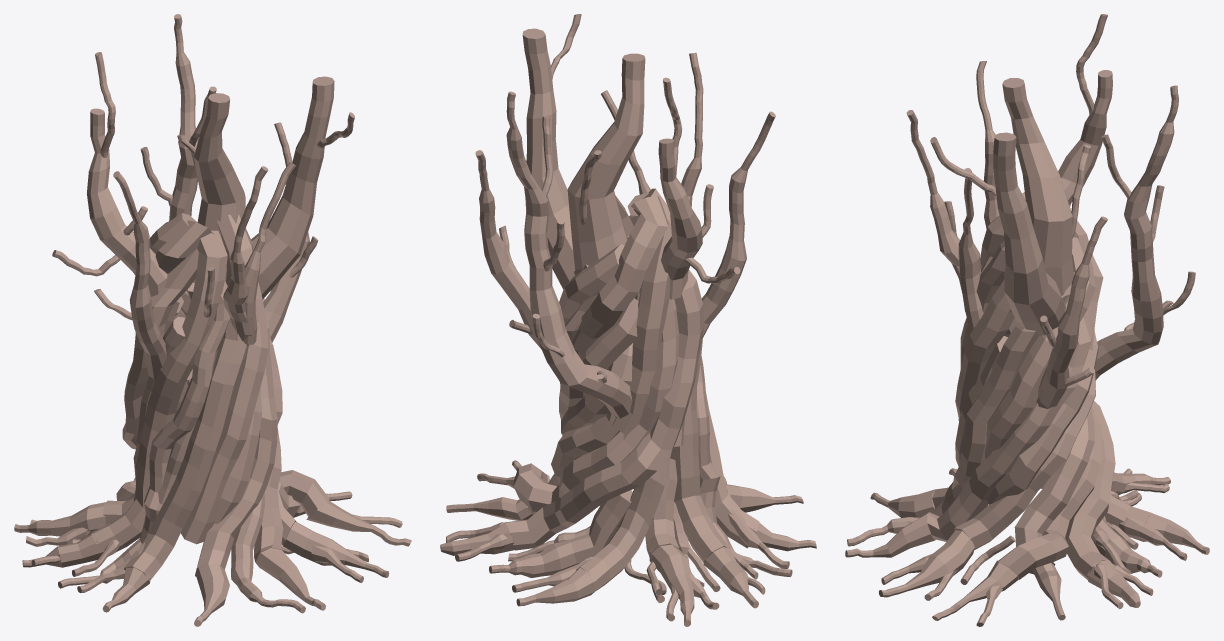
Rendered from bigtree.glb.
3 renders of one model, left to right at view 1: azimuth 30°, elevation 25°; view 2: azimuth 150°, elevation 25°; view 3: azimuth 270°, elevation 25°, orthographic. The views are drawn at different scales.
Parts seen in each view (by area): view 1: group714029534, group1338073359, group489365755, group1880557378, group1532606022, group1153180034, group1716827882, group1494371246, group1823827936, group108648647, group601064043, group1294113587 (+23 smaller); view 2: group108648647, group601064043, group1153180034, group244843052, group489365755, group26012683, group334543148, group1338073359, group1494371246, group2065597467, group1041985594, group1823827936 (+24 smaller); view 3: group489365755, group1153180034, group601064043, group1625258563, group1716827882, group1451681568, group1007075876, group1612250003, group244843052, group108648647, group1590265146, group1554019620 (+26 smaller).
Part boxes in pixels (x1,y1,x2,y2): group714029534: (124, 214, 253, 582); group1338073359: (91, 230, 227, 551); group489365755: (251, 76, 334, 299); group1880557378: (181, 282, 268, 544); group1532606022: (58, 281, 230, 588); group1153180034: (193, 93, 245, 282); group1716827882: (195, 312, 277, 576); group1494371246: (87, 108, 167, 296); group1823827936: (113, 171, 167, 381); group108648647: (122, 249, 198, 449); group601064043: (169, 14, 198, 221); group1294113587: (231, 492, 305, 613); group108648647: (505, 215, 703, 550); group601064043: (506, 91, 632, 418); group1153180034: (567, 53, 645, 270); group244843052: (513, 299, 678, 511); group489365755: (522, 28, 575, 289); group26012683: (571, 195, 668, 353); group334543148: (612, 188, 671, 433); group1338073359: (627, 192, 729, 562); group1494371246: (658, 138, 702, 299); group2065597467: (489, 490, 632, 577); group1041985594: (576, 449, 672, 591); group1823827936: (701, 111, 775, 339); group489365755: (993, 132, 1065, 335); group1153180034: (1002, 78, 1073, 295); group601064043: (1095, 85, 1178, 380); group1625258563: (927, 313, 1093, 541); group1716827882: (932, 272, 1075, 508); group1451681568: (985, 237, 1095, 458); group1007075876: (954, 370, 1095, 549); group1612250003: (1014, 408, 1094, 574); group244843052: (996, 407, 1101, 579); group108648647: (1065, 401, 1115, 579); group1590265146: (1036, 216, 1107, 408); group1554019620: (987, 330, 1098, 504).
Size of the model in its own units: 0.4994 by 0.7286 by 0.4806.
